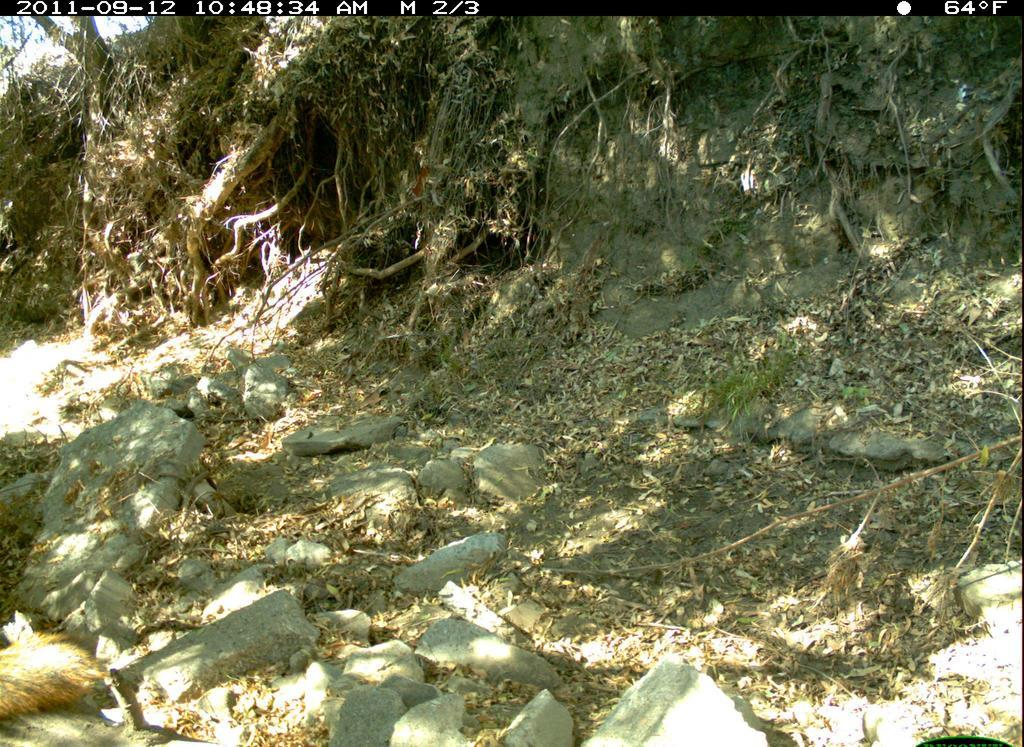squirrel: (1, 619, 132, 736)
